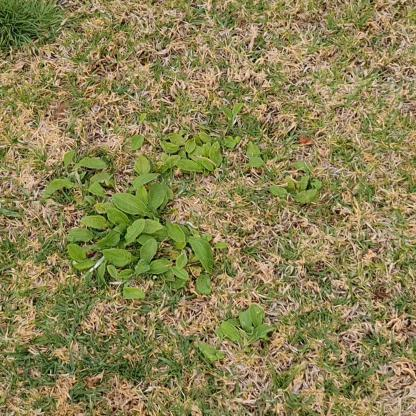Weeds: (45, 102, 245, 300), (247, 141, 322, 205), (198, 305, 275, 362)
